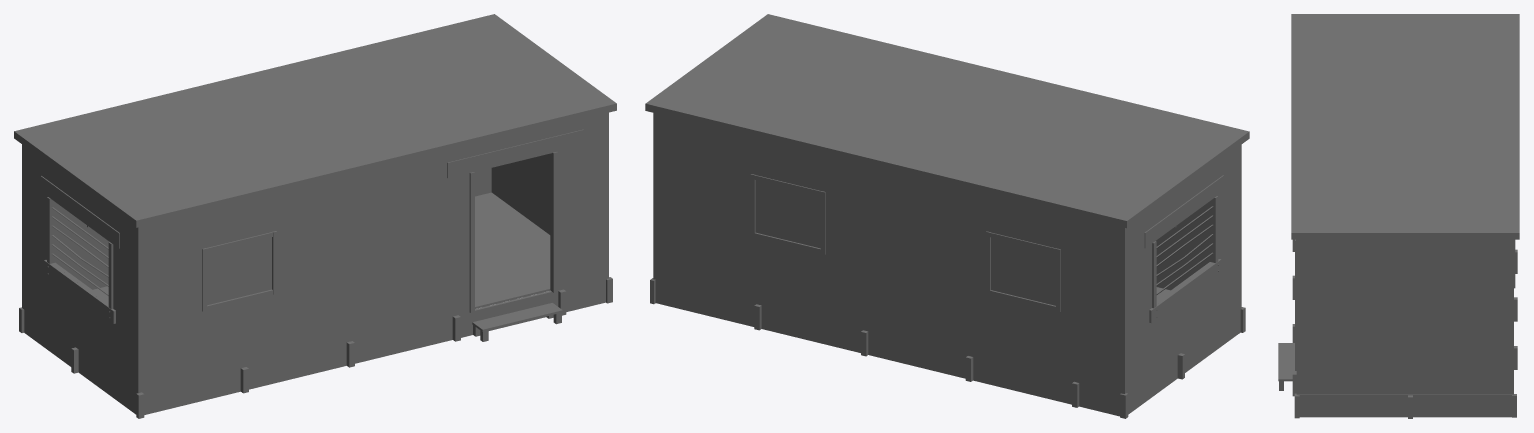
File: building_container_metal.glb
3 views of the same model, side by side, from view 1: azimuth 30°, elevation 25°; view 2: azimuth 150°, elevation 25°; view 3: azimuth 270°, elevation 25° (orthographic). The views are drawn at different scales.
Visible parts, largest first — view 1: building_container_metal; view 2: building_container_metal; view 3: building_container_metal.
Boxes of the visible parts, left/top/right/bottom form: building_container_metal: left=14, top=14, right=616, bottom=418; building_container_metal: left=645, top=14, right=1249, bottom=418; building_container_metal: left=1278, top=14, right=1519, bottom=418.
Size of the model in its own units: 14.3 by 5.68 by 6.66.
Materials: 1 (1 with a texture image).
